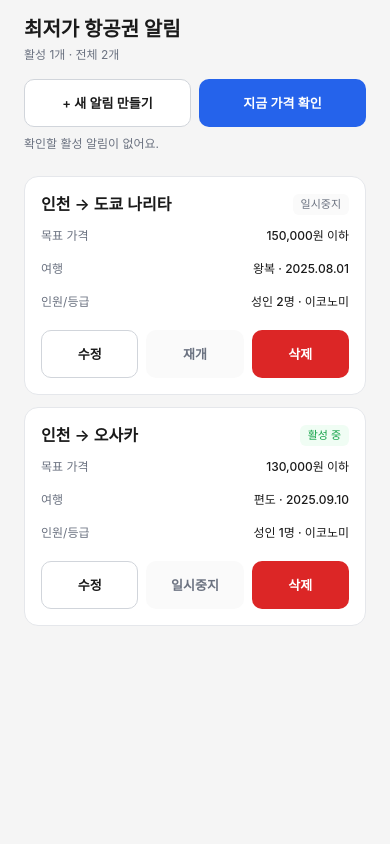
Scenario: AlertScreen (통합) › 삭제를 확인하면 목록에서 제거된다
Expected: the text "인천 → 도쿄 나리타" is shown, [41,193,171,215]
Expected: the text "목표 가격" is shown 2 times, [41,227,88,244]; [41,458,88,475]
Click the button "삭제" below "성인 2명 · 이코노미": (300, 354) [252,330,349,378]
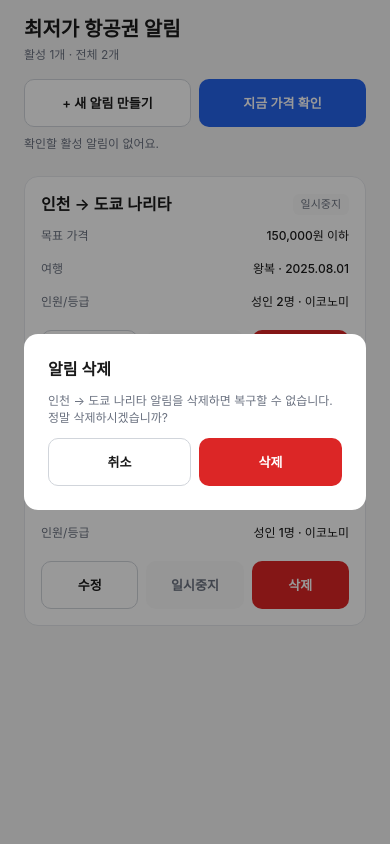
Expected: the text "알림 삭제" is shown, [48,359,111,379]
Click the button "삭제": (270, 462) [199,438,342,486]
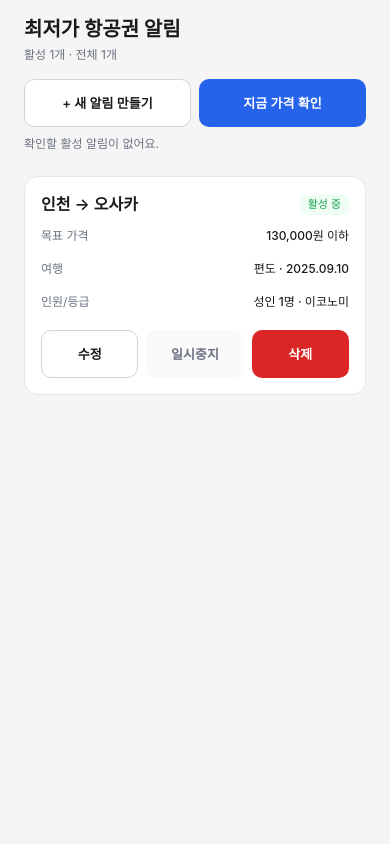
Expected: the text "목표 가격" is shown once, [41,227,88,244]
